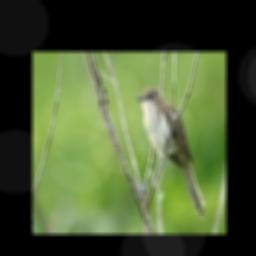Cuckoo: (136, 87, 205, 220)
